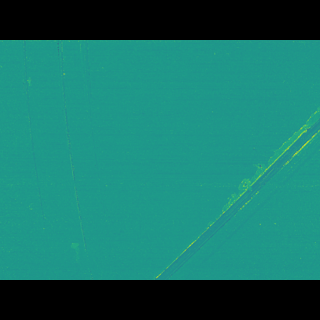Loch: (148, 117, 319, 251), (72, 70, 117, 230), (54, 69, 92, 227), (17, 69, 49, 220)
